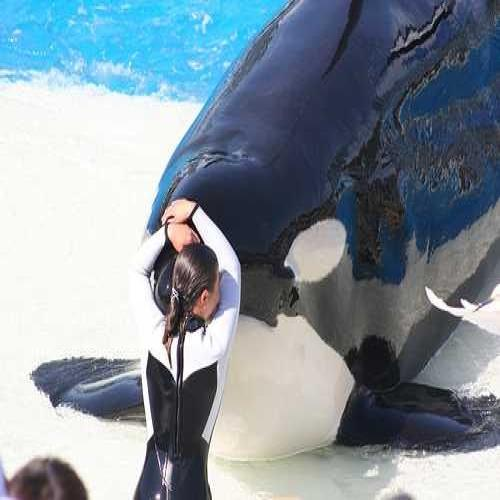killer_whale-endangered: (118, 1, 500, 460)
